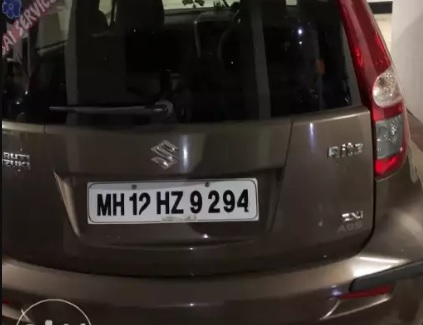licenseplate: (83, 174, 264, 223)
